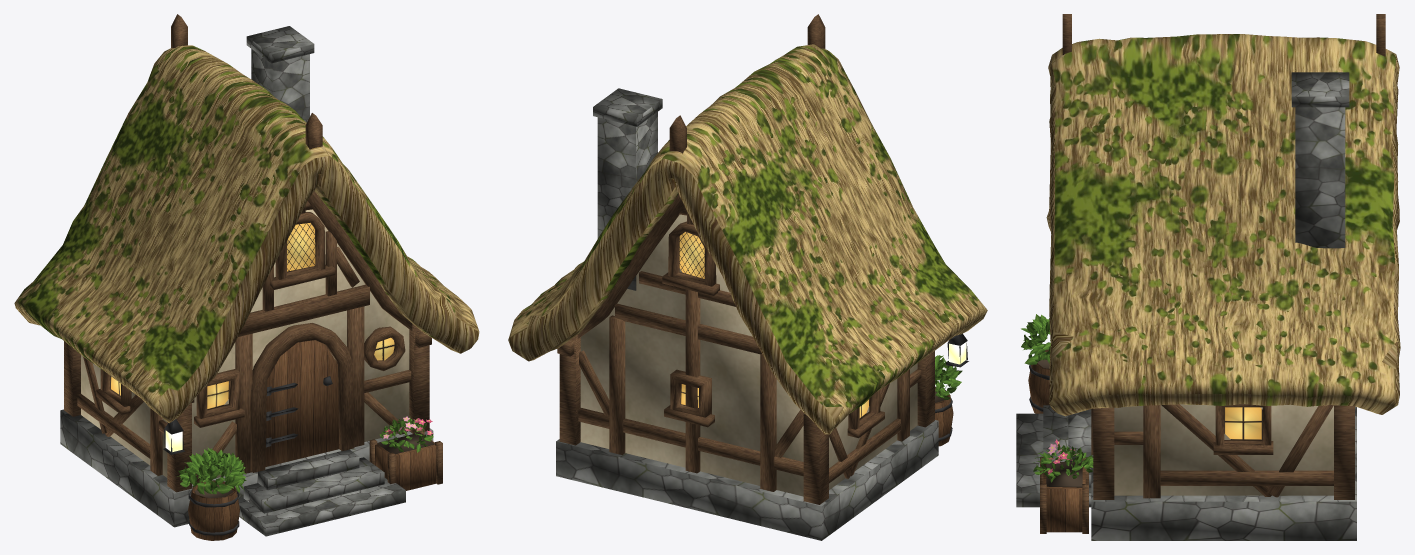
File: thatched-cottage.glb
3 views of the same model, side by side, from view 1: azimuth 30°, elevation 25°; view 2: azimuth 150°, elevation 25°; view 3: azimuth 270°, elevation 25° (orthographic). The views are drawn at different scales.
Visible parts, largest first — view 1: thatched-cottage; view 2: thatched-cottage; view 3: thatched-cottage.
Boxes of the visible parts, bbox=[...] form: thatched-cottage: bbox=[14, 14, 479, 540]; thatched-cottage: bbox=[508, 14, 987, 540]; thatched-cottage: bbox=[1016, 14, 1400, 540].
Size of the model in its own units: 5.44 by 6 by 4.61.
Materials: 15 (9 with a texture image).
